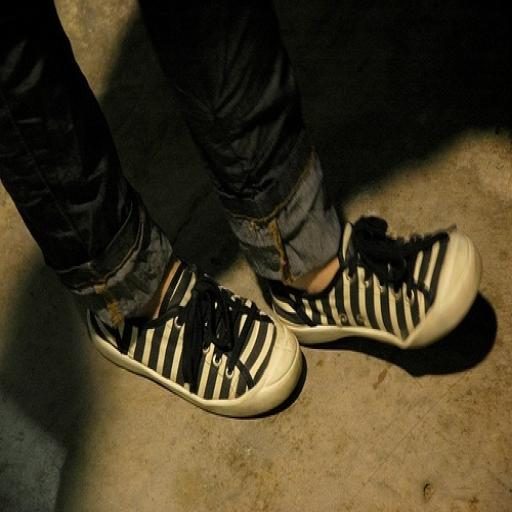shoe: (88, 263, 302, 417), (270, 217, 482, 349)
